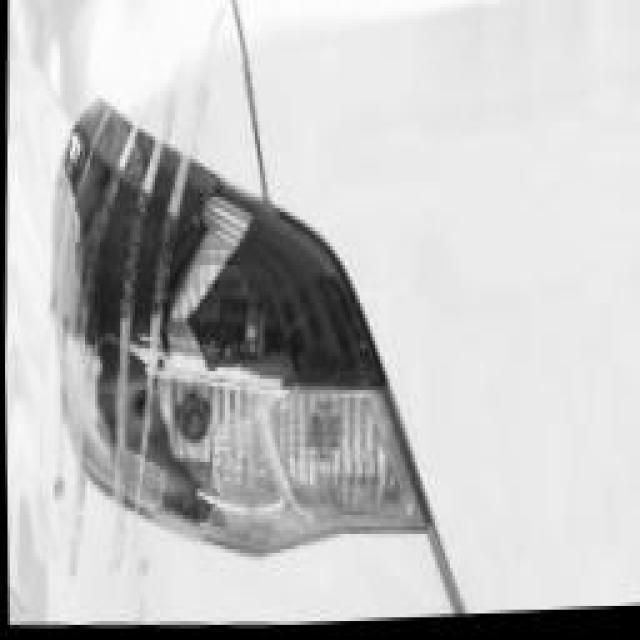Light: (49, 100, 426, 557)
